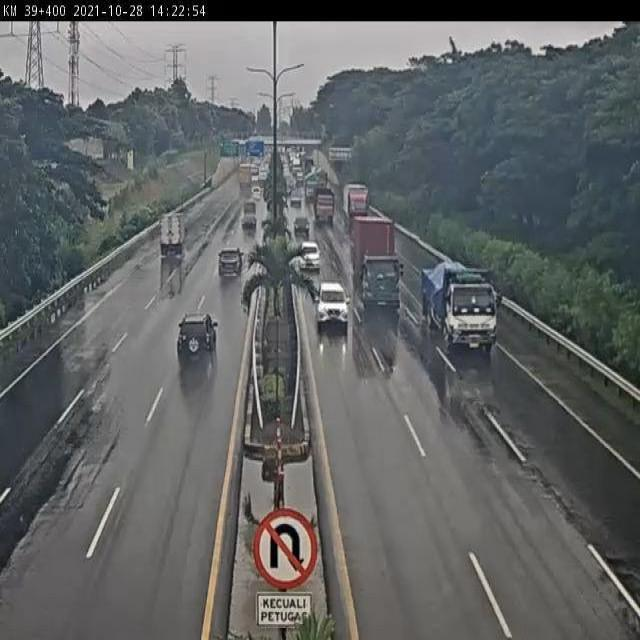truck: (424, 262, 503, 358), (353, 216, 406, 319), (160, 212, 188, 256), (315, 189, 336, 228)
